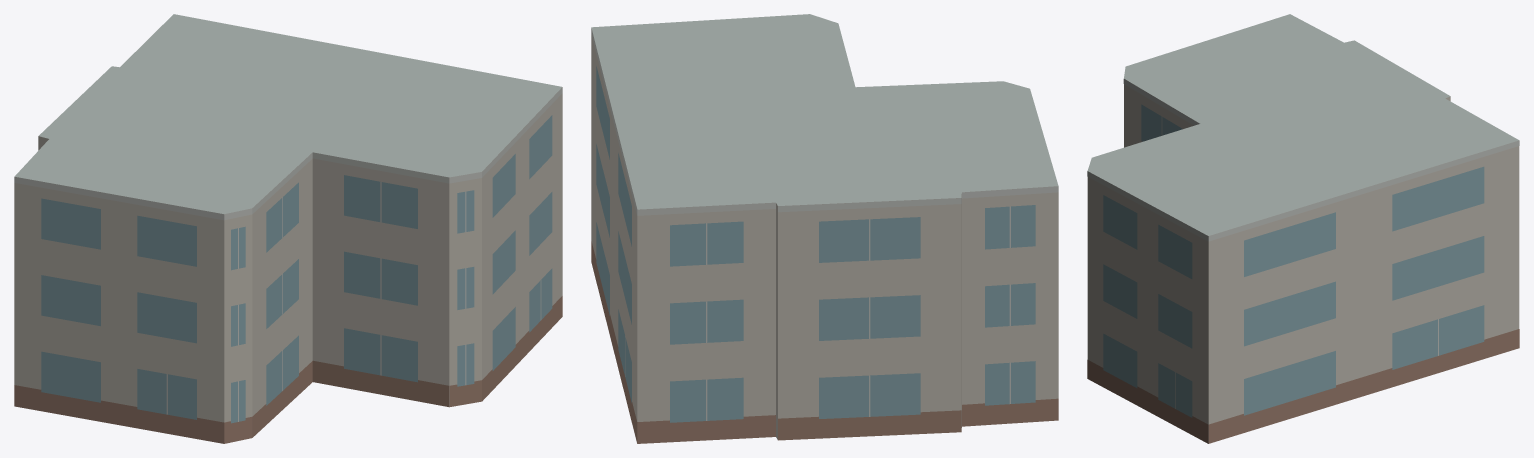
Rendered from survey-upis-32825879.glb.
The picture shows the model from 3 angles, left to right: view 1: azimuth 30°, elevation 25°; view 2: azimuth 150°, elevation 25°; view 3: azimuth 270°, elevation 25°; orthographic projection. The views are drawn at different scales.
Visible parts, largest first — view 1: survey-upis-32825879.tmp; view 2: survey-upis-32825879.tmp; view 3: survey-upis-32825879.tmp.
Boxes of the visible parts, x1,y1,x2,y2 form: survey-upis-32825879.tmp: [14, 14, 562, 443]; survey-upis-32825879.tmp: [591, 14, 1058, 443]; survey-upis-32825879.tmp: [1087, 14, 1519, 443].
Size of the model in its own units: 20.99 by 9.15 by 17.25.
